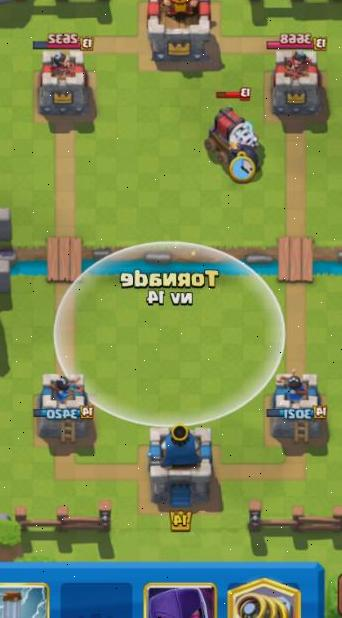enemy_sparky: (201, 98, 266, 170)
player_bomb: (222, 141, 269, 184)
